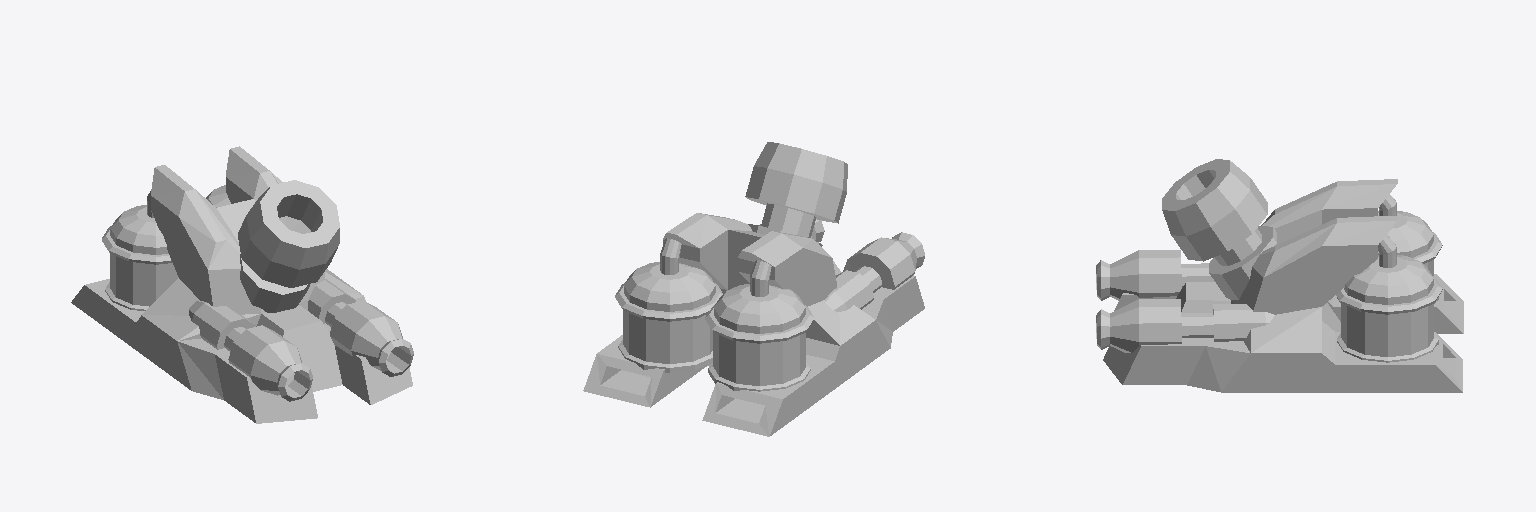
Rendered from MortarSentry.obj.
3 renders of one model, left to right at view 1: azimuth 30°, elevation 25°; view 2: azimuth 150°, elevation 25°; view 3: azimuth 270°, elevation 25°, orthographic.
Bounding box in the file's own units: 4.98 × 4.65 × 8.49.